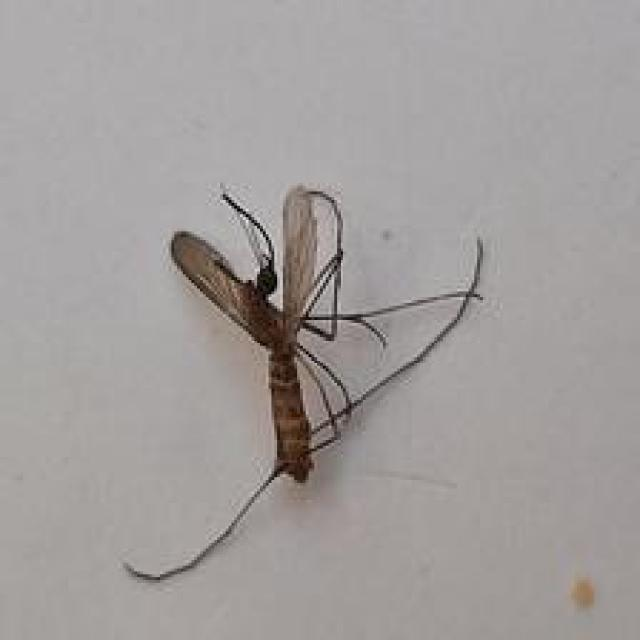Culex: (122, 182, 484, 582)
